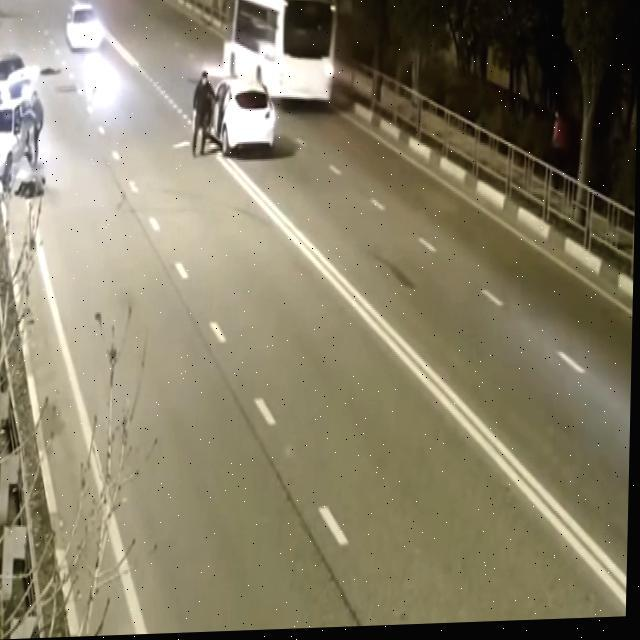multiple_accident: (188, 55, 345, 176)
